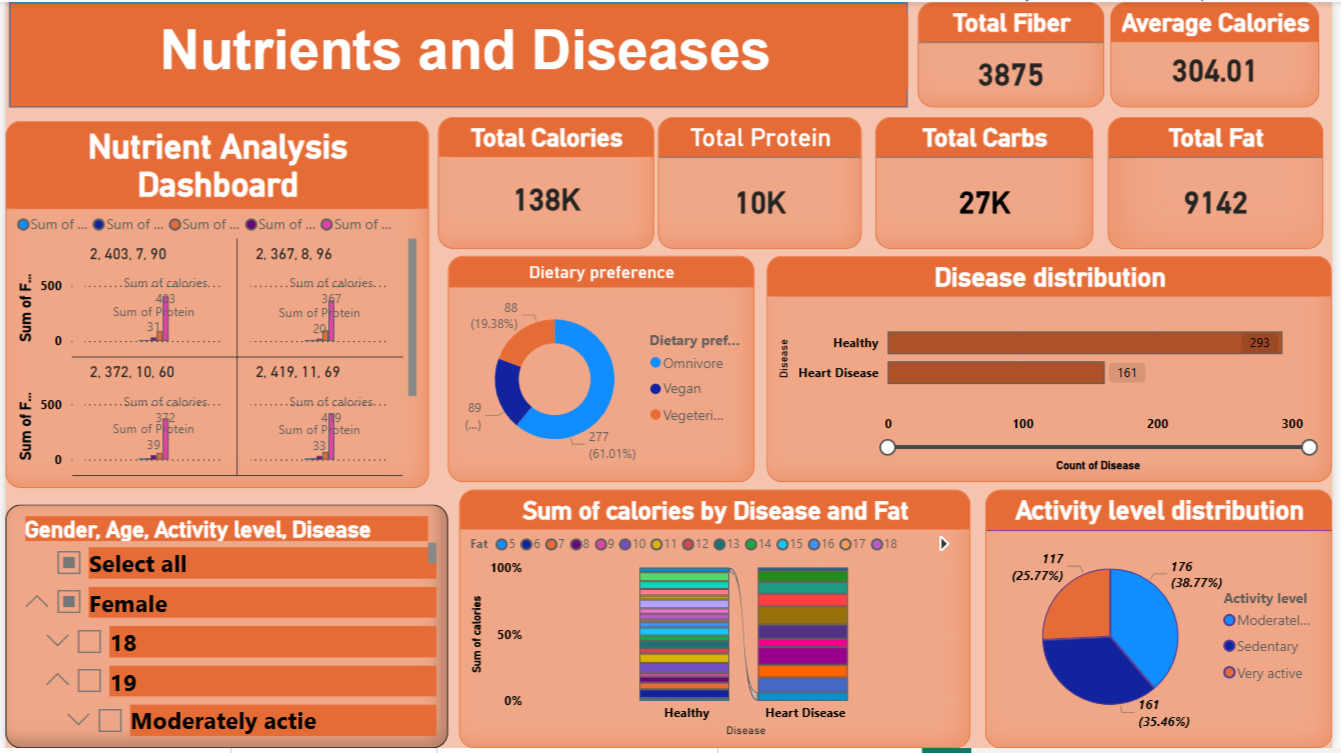

The dashboard page shown, as its layout file describes it:
{"tool":"powerbi","page":{"name":"Nutrients and Diseases","canvas":[1280,720],"ordinal":1},"visuals":[{"type":"card","title":"Total Calories","fields":{"Values":["Sum(Restaurants.calories)"]},"box":[417,111.3,209.1,127.2],"z":0},{"type":"card","title":"Total Protein","fields":{"Values":["Sum(Restaurants.Protein)"]},"box":[629.8,111.3,196.9,127.2],"z":1000},{"type":"card","title":"Total Carbs","fields":{"Values":["Sum(Restaurants.Carbohydrates)"]},"box":[840.1,111.3,210.3,127.2],"z":2000},{"type":"card","title":"Total Fat","fields":{"Values":["Sum(Restaurants.Fat)"]},"box":[1063.9,111.3,207.9,127.2],"z":3000},{"type":"card","title":"Total Fiber","fields":{"Values":["Sum(Restaurants.Fiber)"]},"box":[880.4,0,179.8,101.5],"z":4000},{"type":"card","title":"Average Calories","fields":{"Values":["Avg(Restaurants.calories)"]},"box":[1066.3,0,201.8,101.5],"z":5000},{"type":"clusteredColumnChart","title":"Nutrient Analysis Dashboard","fields":{"Y":["Sum(Restaurants.Fiber)","Sum(Restaurants.Fat)","Sum(Restaurants.Carbohydrates)","Sum(Restaurants.Protein)","Sum(Restaurants.calories)"],"Rows":["Restaurants.Fiber","Restaurants.calories","Restaurants.Fat","Restaurants.Carbohydrates"]},"box":[0,115,408.9,354],"z":6000},{"type":"pieChart","title":"Activity level distribution","fields":{"Y":["CountNonNull(Restaurants.Activity level)"],"Category":["Restaurants.Activity level"]},"box":[945.2,470.8,335.1,249.5],"z":7000},{"type":"donutChart","title":" Dietary preference ","fields":{"Category":["Restaurants.Dietary preference"],"Y":["CountNonNull(Restaurants.Dietary preference)"]},"box":[427.2,245.2,295.7,218.6],"z":8000},{"type":"clusteredBarChart","title":"Disease distribution","fields":{"Category":["Restaurants.Disease"],"Y":["CountNonNull(Restaurants.Disease)"]},"box":[734.3,245.2,546,218.6],"z":9000},{"type":"hundredPercentStackedColumnChart","fields":{"Category":["Restaurants.Disease"],"Y":["Sum(Restaurants.calories)"],"Series":["Restaurants.Fat"]},"box":[437.6,470.3,493.8,249.5],"z":10000},{"type":"slicer","fields":{"Values":["Restaurants.Gender","Restaurants.Age","Restaurants.Activity level","Restaurants.Disease"]},"box":[0,484.7,427.2,235.2],"z":11000},{"type":"textbox","box":[77.1,10.5,678,82.3],"z":12000},{"type":"shape","box":[3.9,0,867.4,101.9],"z":13000},{"type":"textbox","box":[17,10.5,854.4,73.2],"z":14000}]}

Visuals, with their boxes in screenshot pixels (x1, y1, x2, y2), scaled from the page's 1280x720 canvas onto the 1341x753 screenshot:
"Total Calories" card: box(437, 116, 656, 249)
"Total Protein" card: box(660, 116, 866, 249)
"Total Carbs" card: box(880, 116, 1100, 249)
"Total Fat" card: box(1115, 116, 1332, 249)
"Total Fiber" card: box(922, 0, 1111, 106)
"Average Calories" card: box(1117, 0, 1329, 106)
"Nutrient Analysis Dashboard" clusteredColumnChart: box(0, 120, 428, 490)
"Activity level distribution" pieChart: box(990, 492, 1340, 752)
" Dietary preference " donutChart: box(448, 256, 757, 485)
"Disease distribution" clusteredBarChart: box(769, 256, 1340, 485)
hundredPercentStackedColumnChart - Restaurants.Disease x Sum(Restaurants.calories): box(458, 492, 976, 752)
slicer - Restaurants.Gender x Restaurants.Age: box(0, 507, 448, 752)
textbox: box(81, 11, 791, 97)
shape: box(4, 0, 913, 107)
textbox: box(18, 11, 913, 88)
